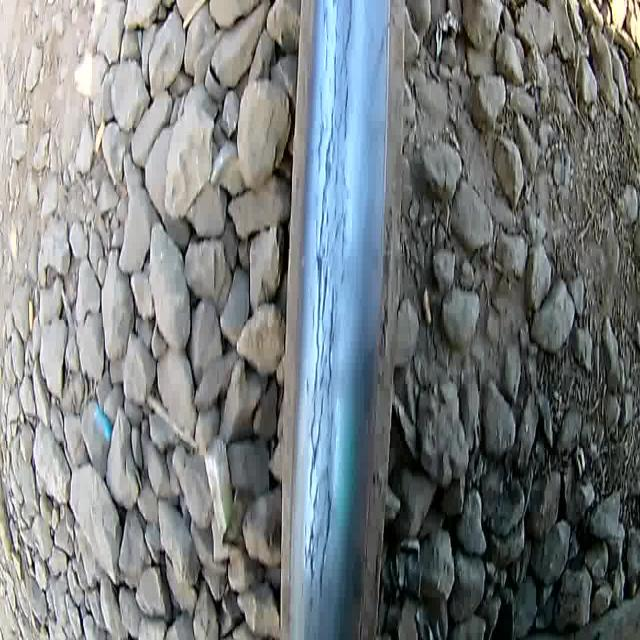Cracks: (300, 0, 359, 619)
